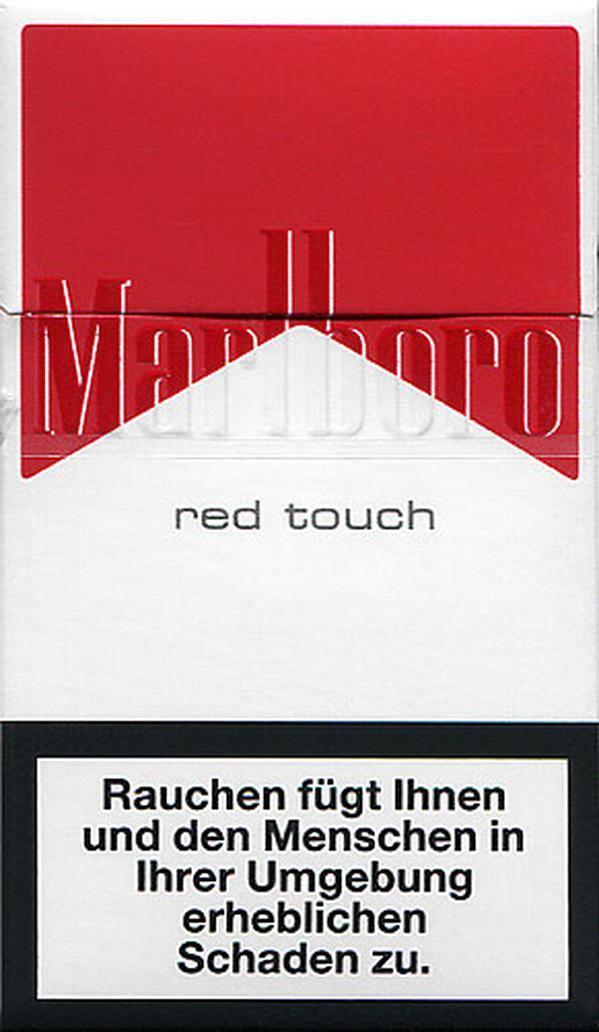marlboro_red: (1, 14, 597, 1031)
